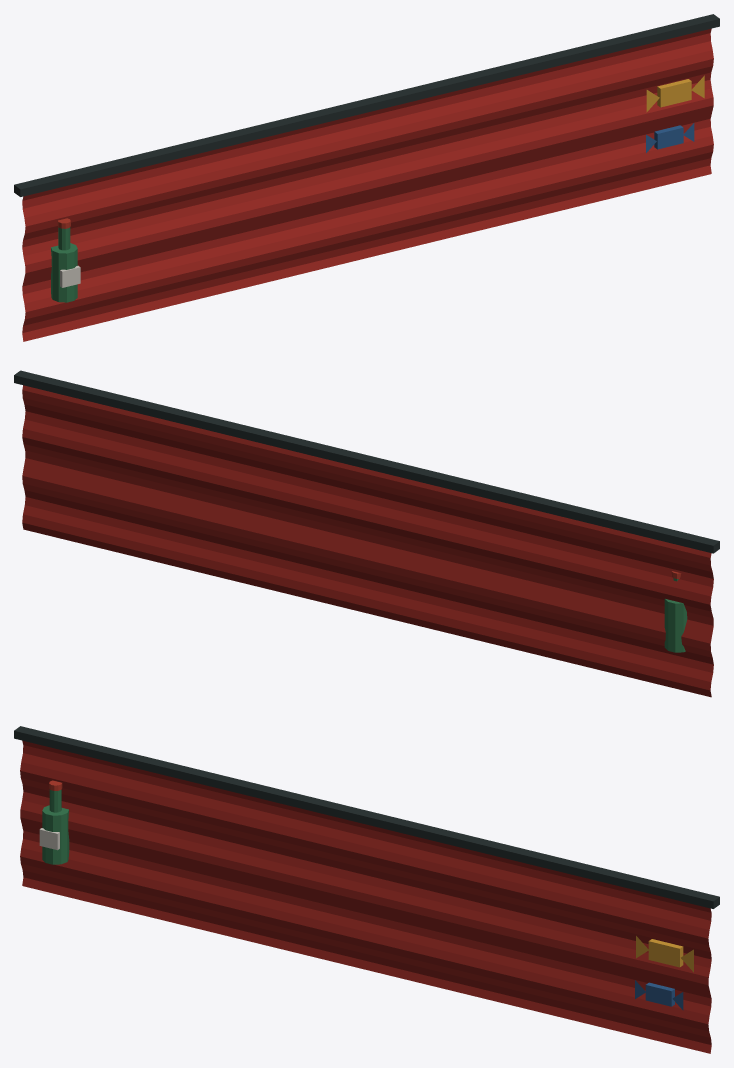
File: bang_tap_hoa_co_ut_40.glb
3 views of the same model, one above another, from view 1: azimuth 30°, elevation 25°; view 2: azimuth 150°, elevation 25°; view 3: azimuth 330°, elevation 25° (orthographic).
Visible parts, largest first — view 1: bang_tap_hoa_co_ut_40; view 2: bang_tap_hoa_co_ut_40; view 3: bang_tap_hoa_co_ut_40.
Part boxes in pixels (x1,y1,x2,y2): bang_tap_hoa_co_ut_40: (14,14,719,341); bang_tap_hoa_co_ut_40: (14,370,719,697); bang_tap_hoa_co_ut_40: (14,726,719,1053).
Size of the model in its own units: 3.76 by 0.8 by 0.136.
